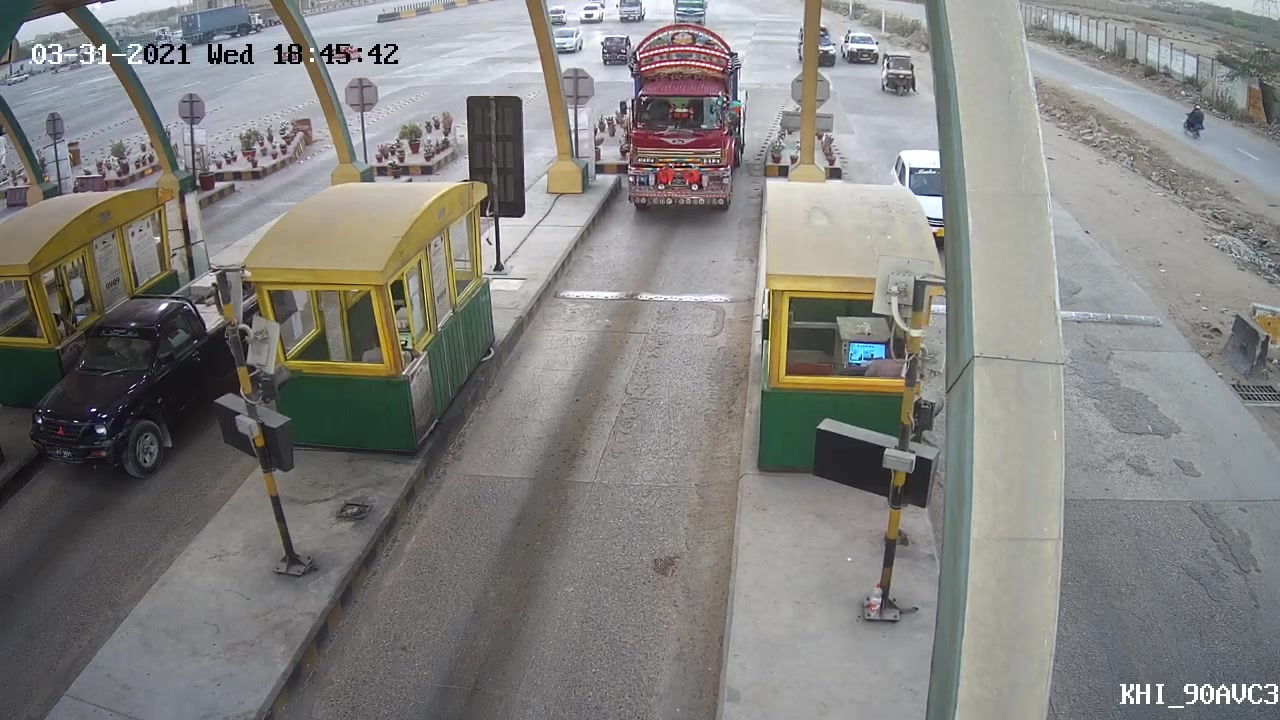F5: (605, 19, 753, 234)
